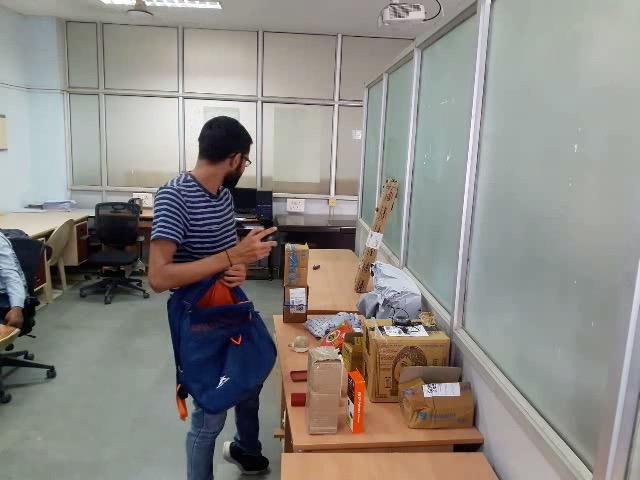shoplifting: (113, 208, 339, 424)
